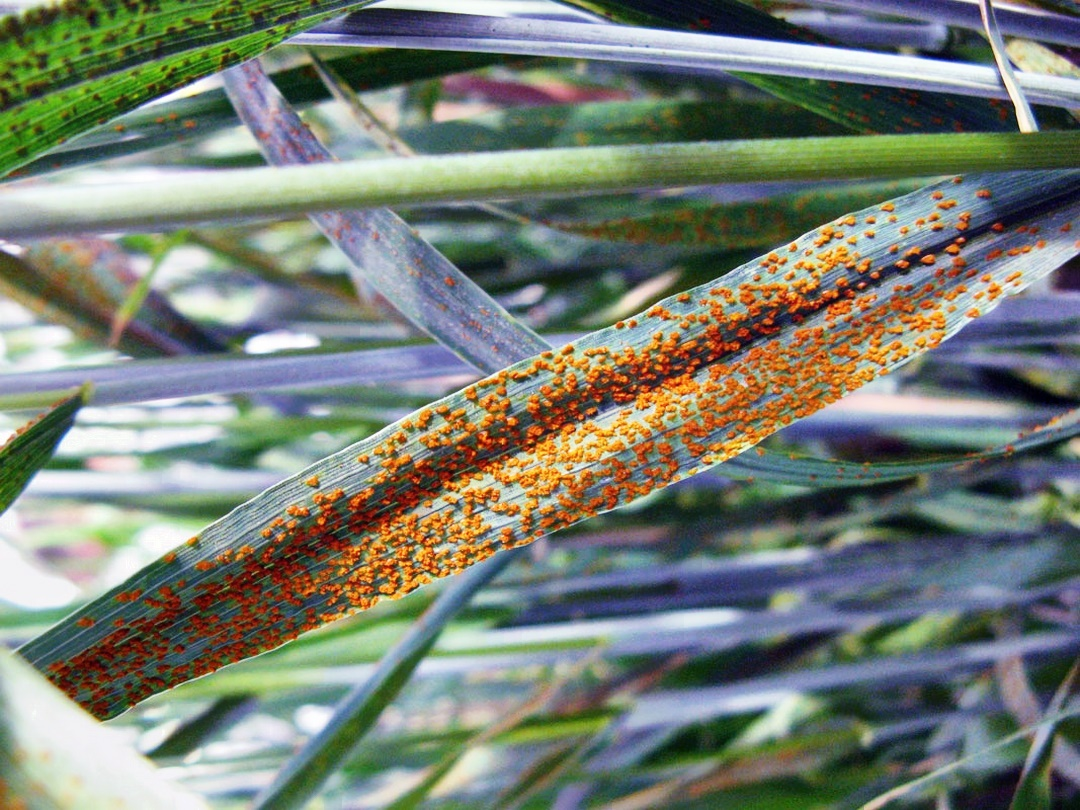Leaf Rust: (136, 198, 982, 687)
